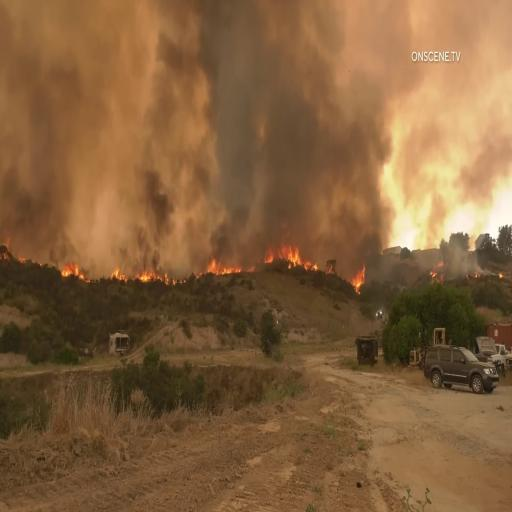smoke: (242, 0, 324, 239), (118, 5, 190, 254)
